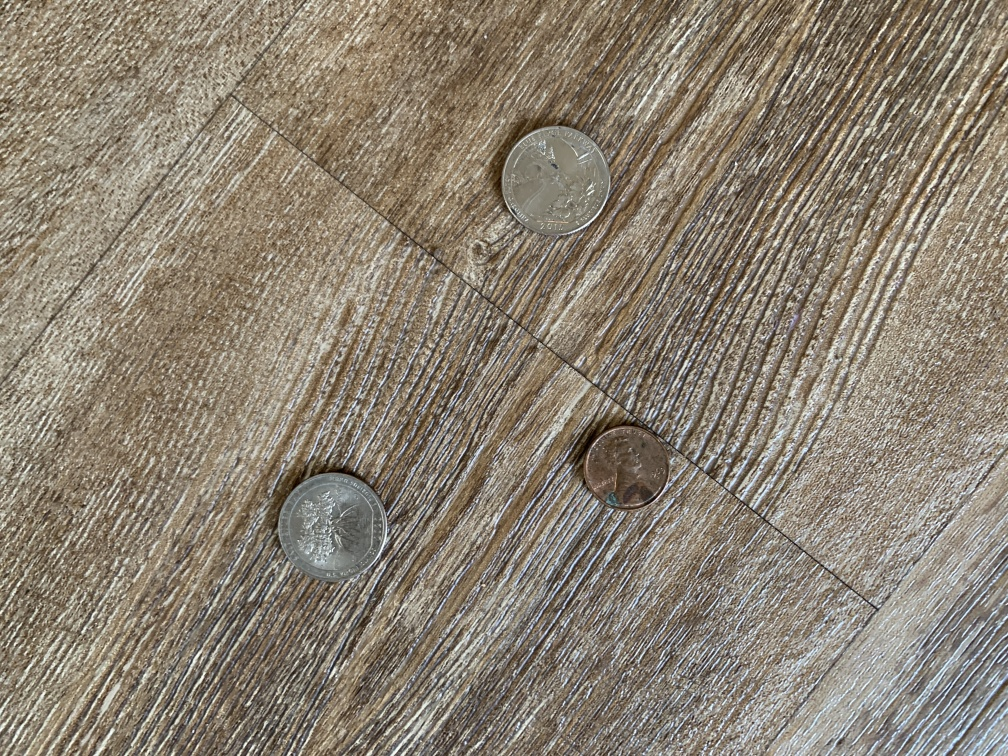nickel: (274, 469, 390, 584)
penny: (580, 422, 673, 514)
quarter: (498, 121, 614, 244)
